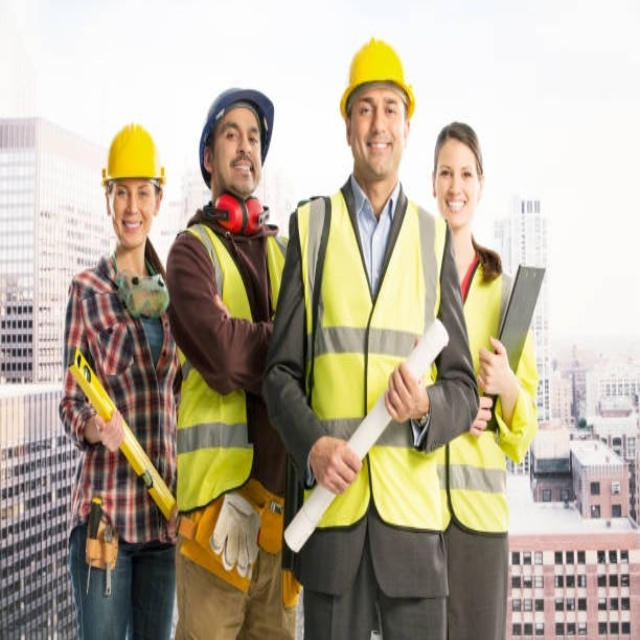Sin_gafas: (355, 89, 401, 122), (216, 116, 260, 146), (436, 155, 475, 184), (113, 177, 154, 201)
Sin_guantes: (307, 431, 366, 491), (382, 356, 428, 428), (476, 336, 519, 395), (92, 405, 125, 452)
Sin_mascara: (364, 132, 393, 168), (227, 158, 256, 187), (443, 195, 468, 226), (118, 212, 144, 240)
